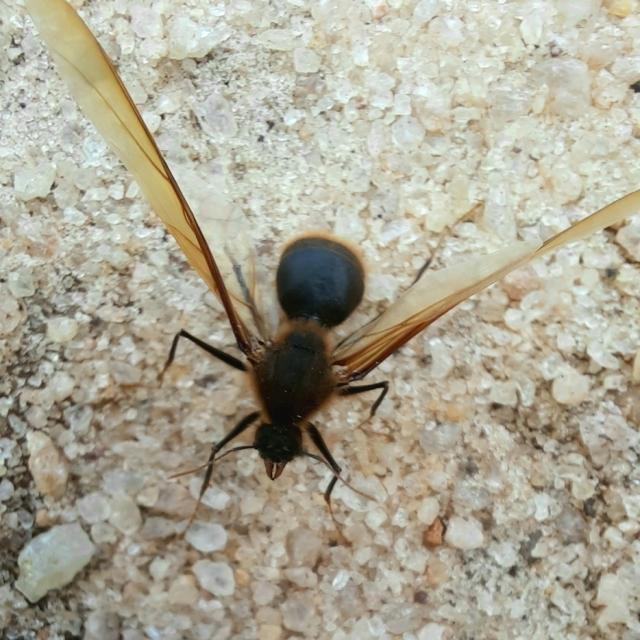Alive-Male-Alate: (23, 0, 640, 558)
